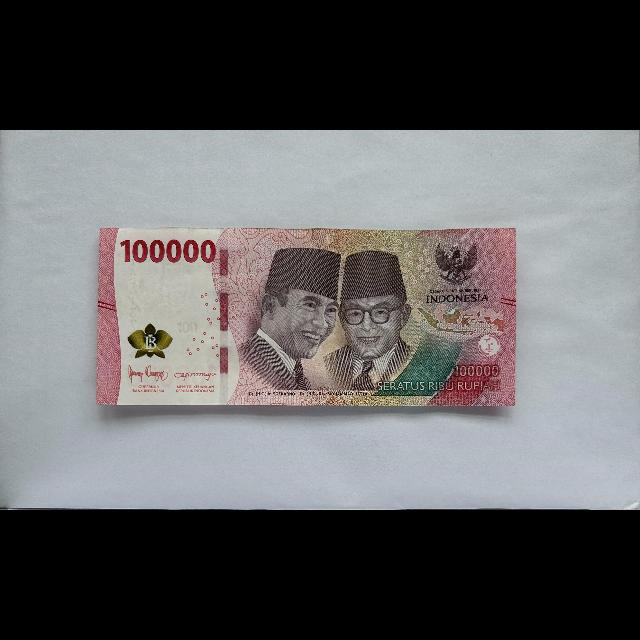Asli-100k: (96, 226, 519, 409)
Tinta-Asli-100k: (127, 323, 174, 360)
